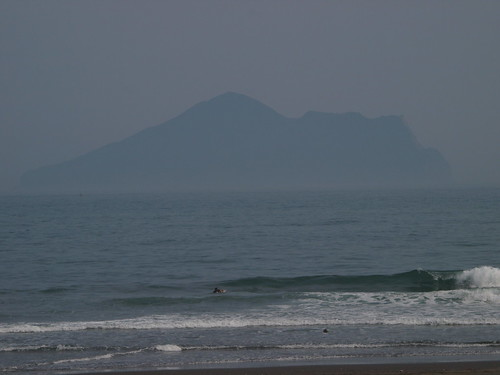turtleIsland: (17, 89, 453, 187)
